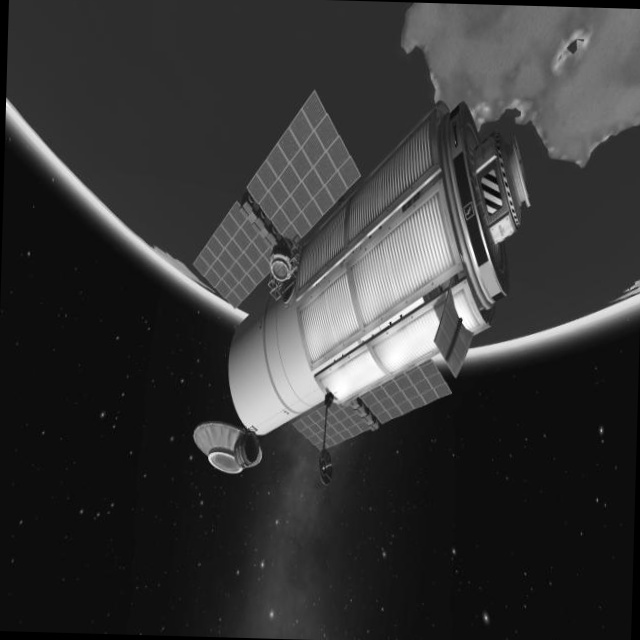medium_debris: (171, 81, 541, 506)
